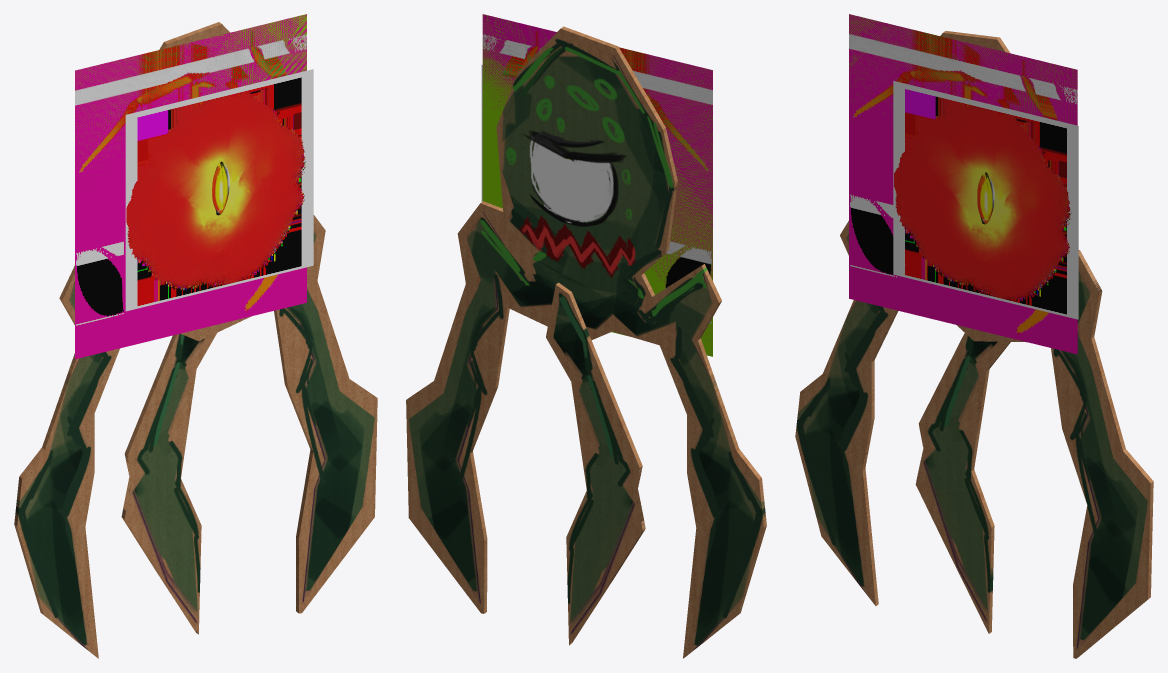
File: monsta.FBX
3 renders of one model, left to right at view 1: azimuth 30°, elevation 25°; view 2: azimuth 150°, elevation 25°; view 3: azimuth 330°, elevation 25°, orthographic.
Parts seen in each view (by area): view 1: monster_body, eye_glow_red, body_glow_red, monster_leg, body_glow_green, monster_eye; view 2: monster_body, monster_leg, body_glow_red, body_glow_green; view 3: monster_body, eye_glow_red, body_glow_red, monster_leg, body_glow_green, monster_eye.
Part boxes in pixels (x1=…): monster_body: x1=14, y1=22, x2=377, y2=658; eye_glow_red: x1=125, y1=69, x2=313, y2=311; body_glow_red: x1=75, y1=14, x2=306, y2=359; monster_leg: x1=121, y1=333, x2=216, y2=634; body_glow_green: x1=75, y1=14, x2=306, y2=167; monster_eye: x1=212, y1=161, x2=229, y2=215; monster_body: x1=406, y1=26, x2=766, y2=658; monster_leg: x1=546, y1=282, x2=645, y2=645; body_glow_red: x1=482, y1=14, x2=712, y2=338; body_glow_green: x1=482, y1=14, x2=712, y2=356; monster_body: x1=795, y1=31, x2=1153, y2=658; eye_glow_red: x1=893, y1=80, x2=1078, y2=319; body_glow_red: x1=849, y1=14, x2=1077, y2=354; monster_leg: x1=915, y1=333, x2=1010, y2=633; body_glow_green: x1=849, y1=14, x2=1077, y2=123; monster_eye: x1=977, y1=172, x2=994, y2=224.
Size of the model in its own units: 491 by 799 by 36.7.
Materials: 7 (7 with a texture image).
